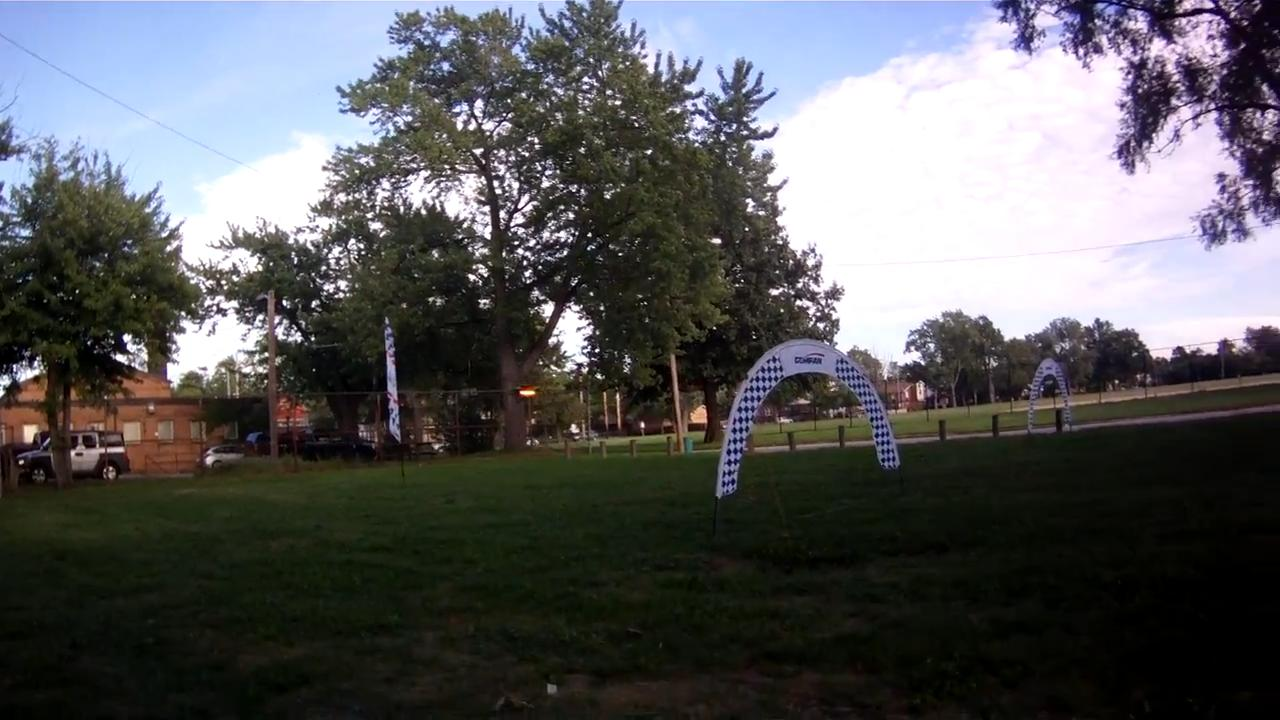gate: (713, 336, 903, 500)
